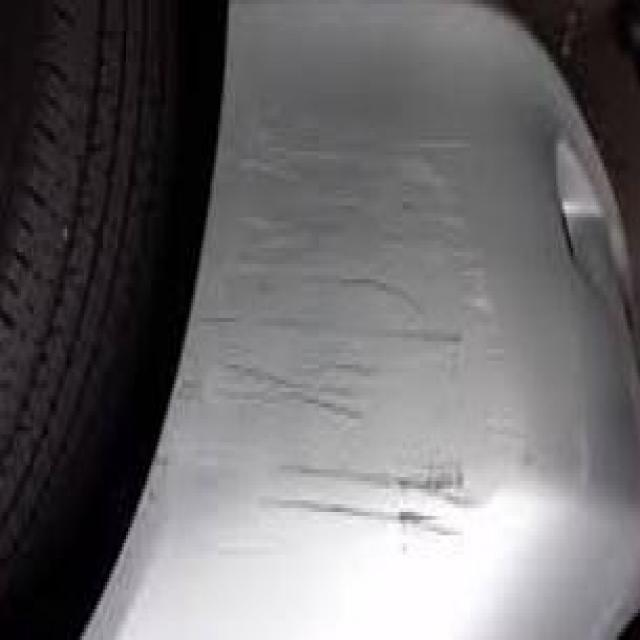scratch: (196, 109, 522, 544)
